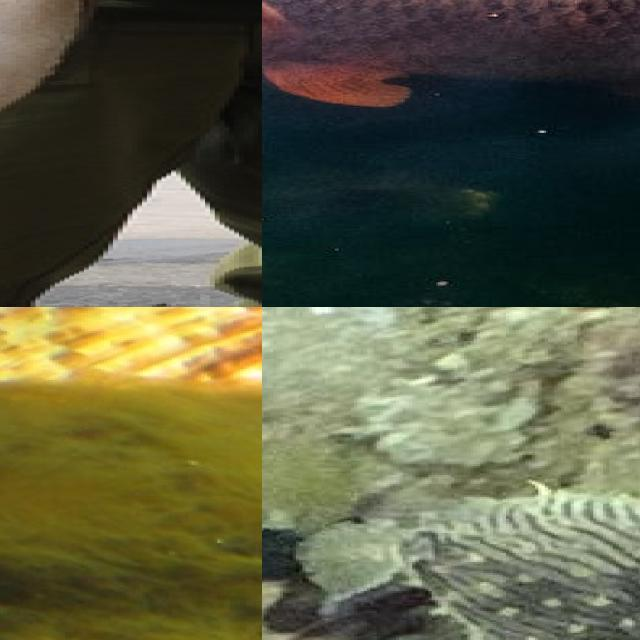fish: (262, 0, 640, 307), (0, 0, 262, 307), (262, 476, 640, 640), (0, 307, 262, 425)
